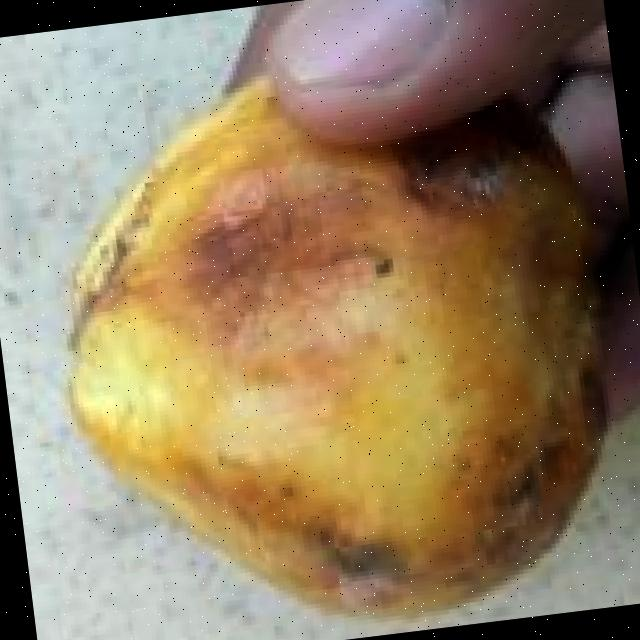Bad_Guava 0 day: (73, 78, 604, 611)
